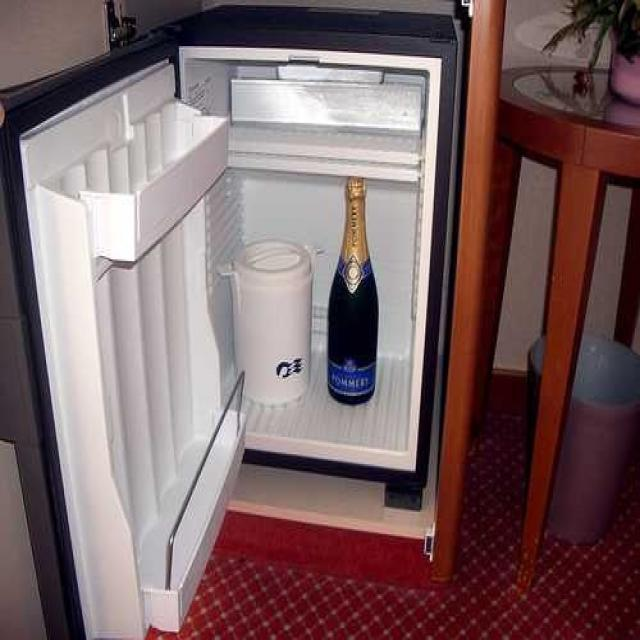refrigerator: (76, 12, 469, 560)
